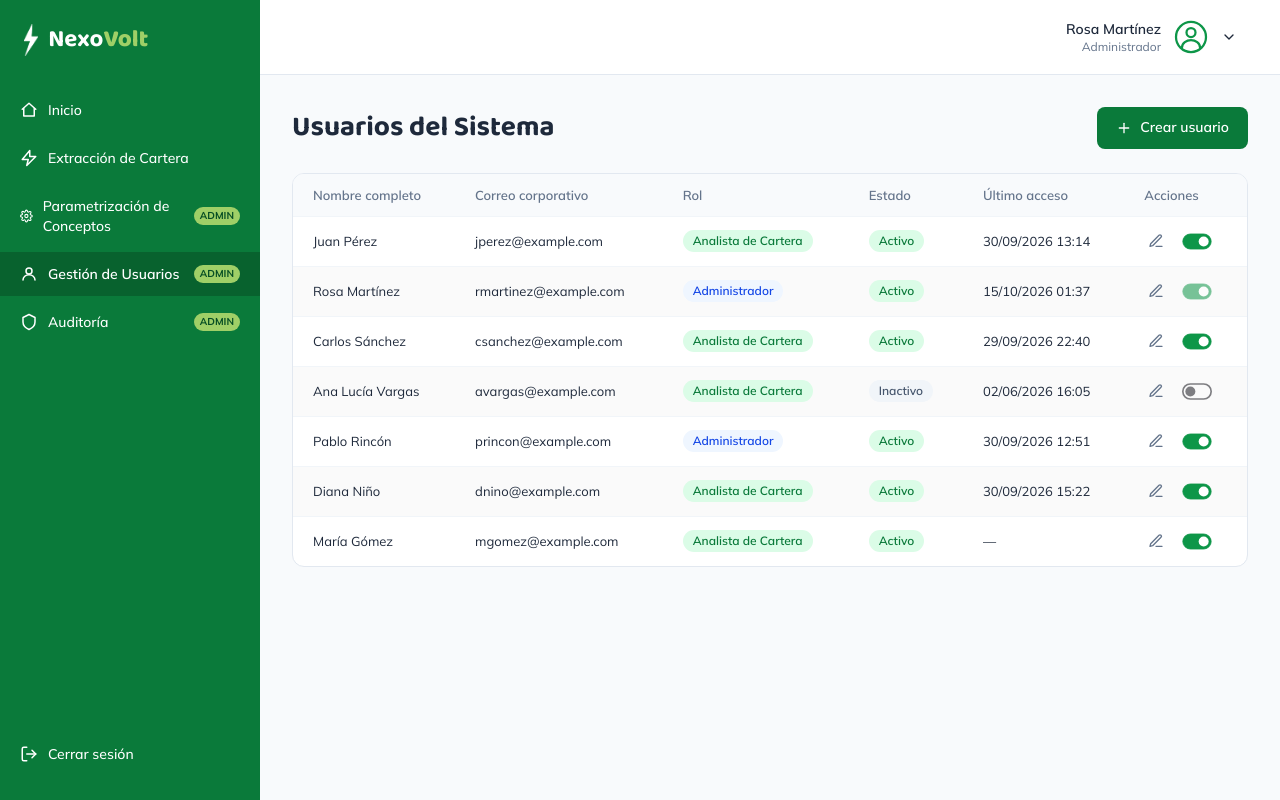
Test: editar usuario › un administrador no puede cambiarse el rol a sí mismo
Expected: the text "Juan Pérez" is shown, [293,216,455,266]
What coordinates should you click on to do the following:
click the button named "Editar a Rosa Martínez"
I would click on:
 (1156, 291)
Its box is [1144,279,1168,303].
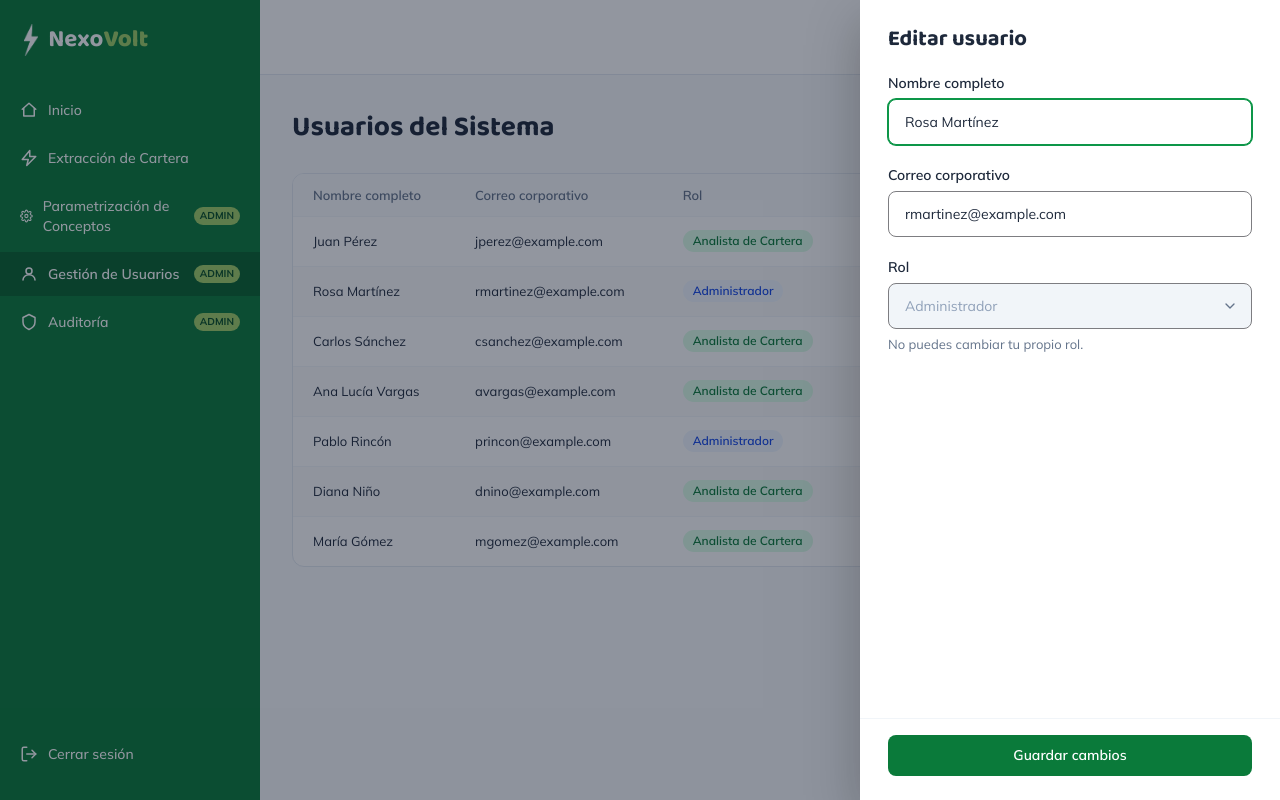
Now the dropdown labelled "Rol" is disabled, box [888,283,1252,329]
Now the text "No puedes cambiar tu propio rol." is shown, box [888,336,1083,352]
